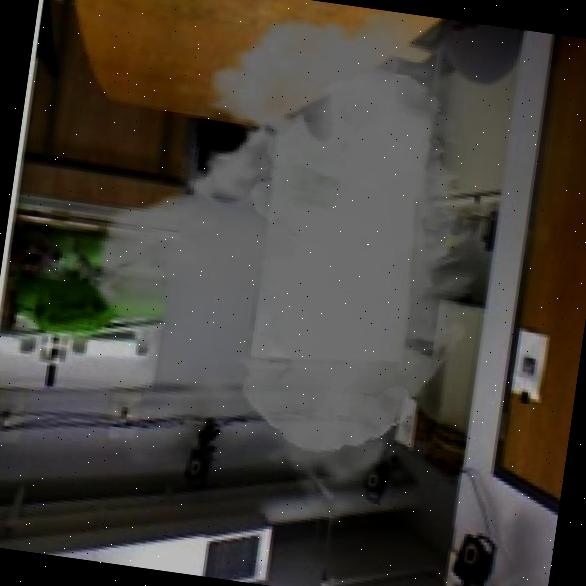smoke: (42, 0, 586, 557)
